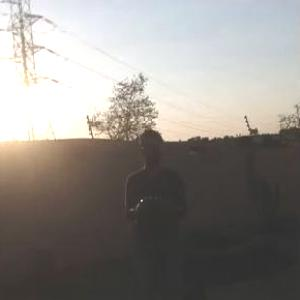follow: (120, 126, 192, 299)
